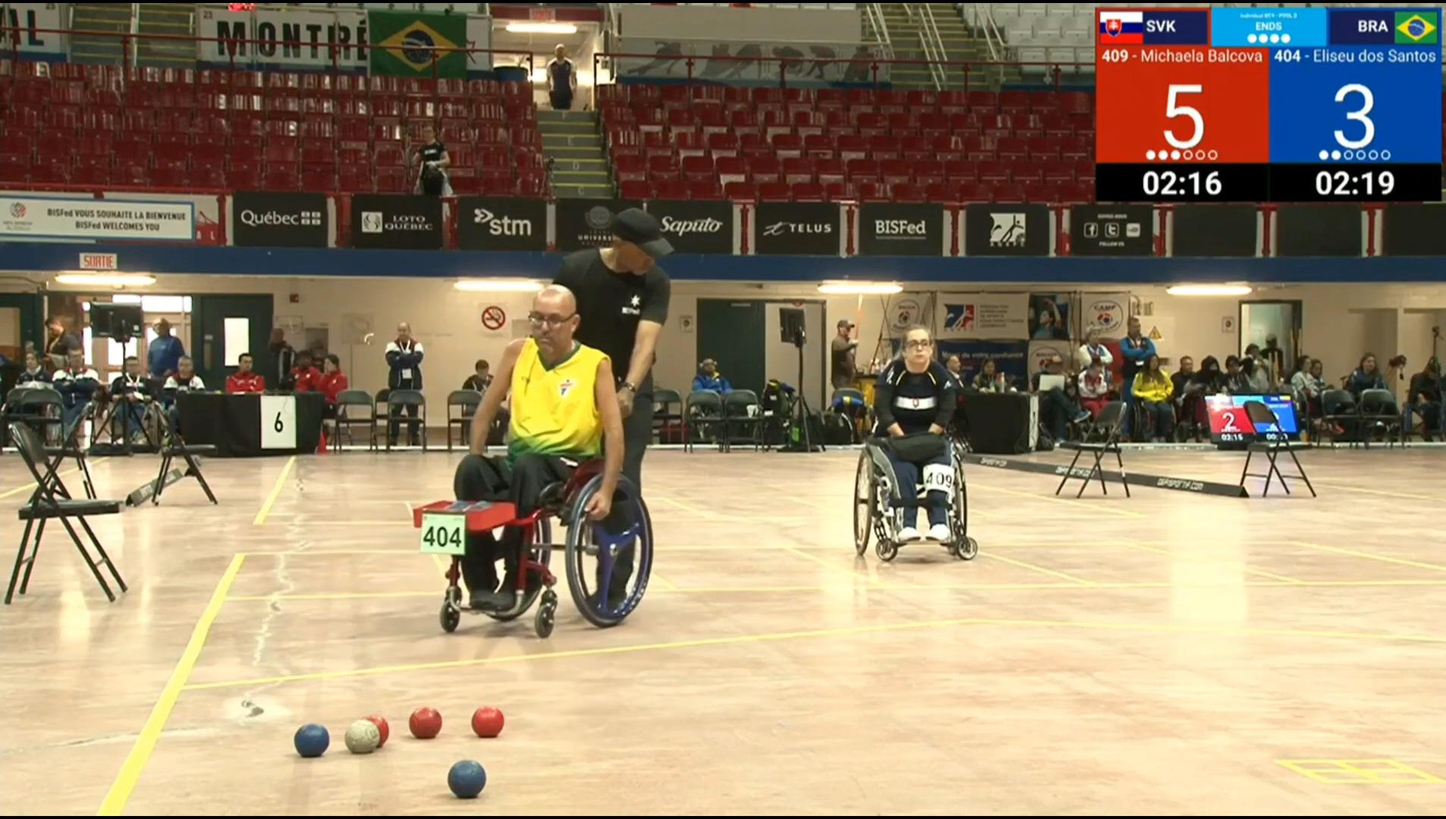blue_ball: (447, 759, 486, 799), (294, 723, 329, 758)
red_ball: (410, 707, 442, 739), (472, 707, 504, 738), (366, 714, 388, 745)
white_ball: (345, 720, 379, 752)
